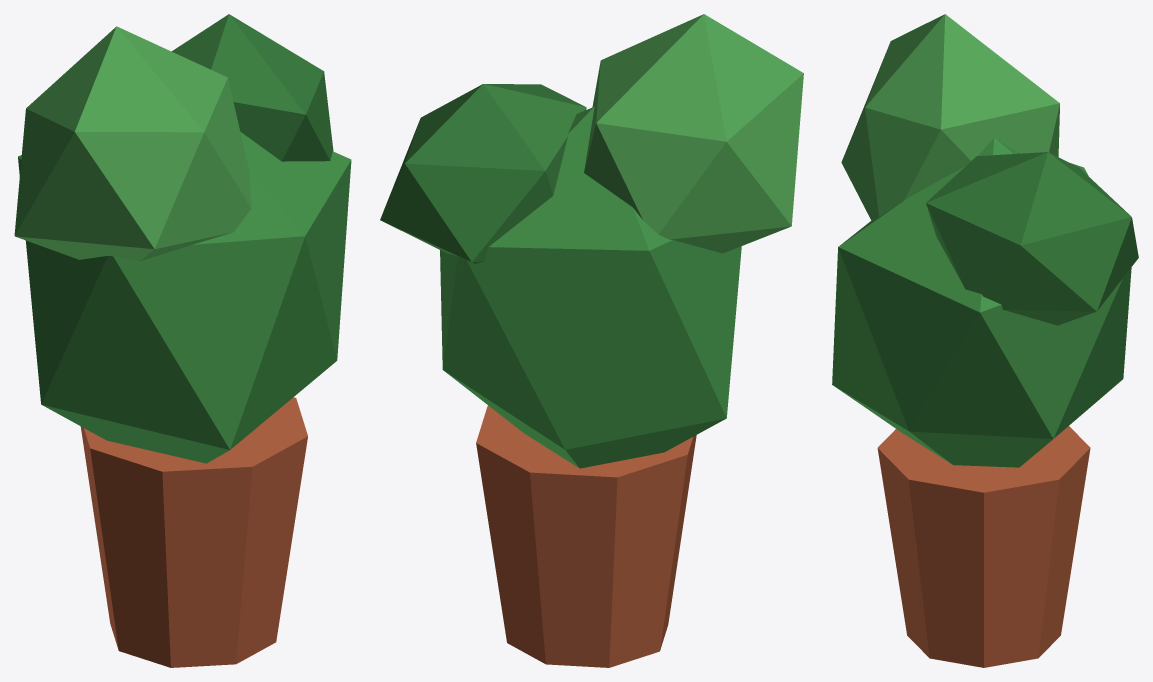
The model's file is plant.fbx.
3 views of the same model, side by side, from view 1: azimuth 30°, elevation 25°; view 2: azimuth 150°, elevation 25°; view 3: azimuth 270°, elevation 25° (orthographic). The views are drawn at different scales.
Visible parts, largest first — view 1: plant; view 2: plant; view 3: plant.
Part boxes in pixels (x1,y1,x2,y2): plant: (14,14,351,667); plant: (380,14,803,667); plant: (832,14,1138,667).
Bounding box in the file's own units: 2.45 × 4.32 × 2.07.
